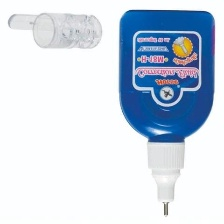correction_fluid: (115, 7, 217, 218)
